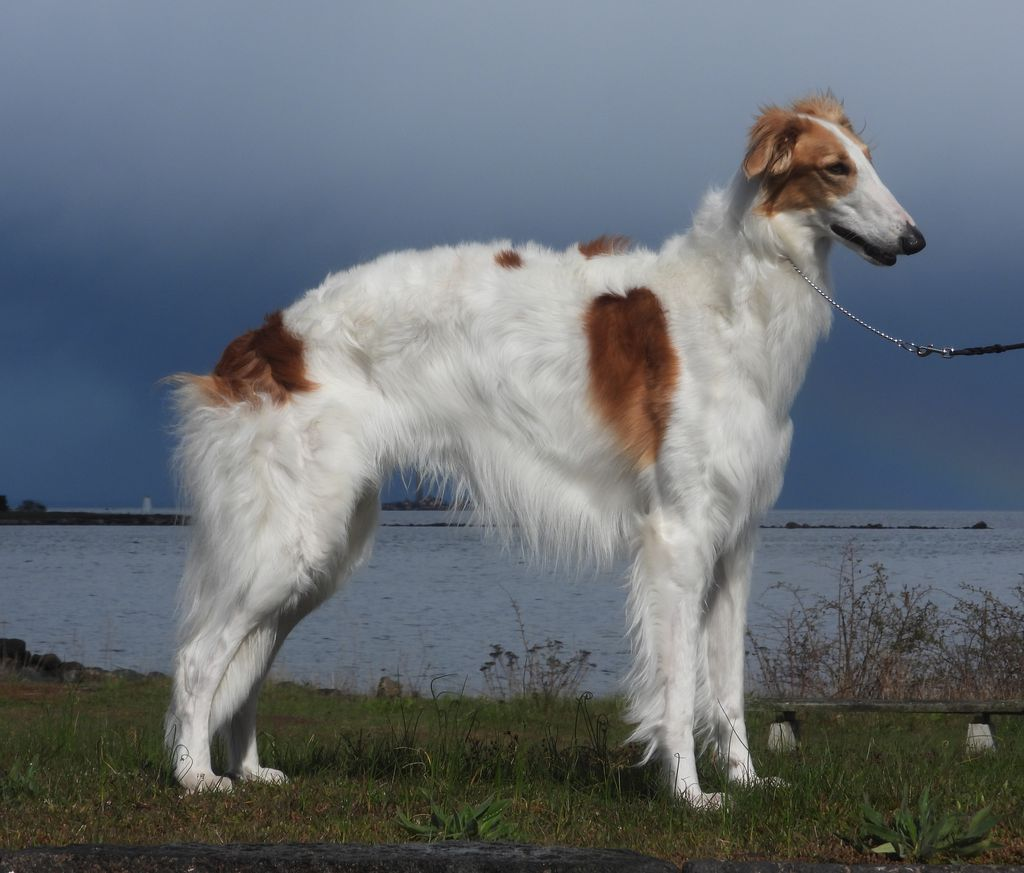borzoi: (135, 100, 957, 806)
